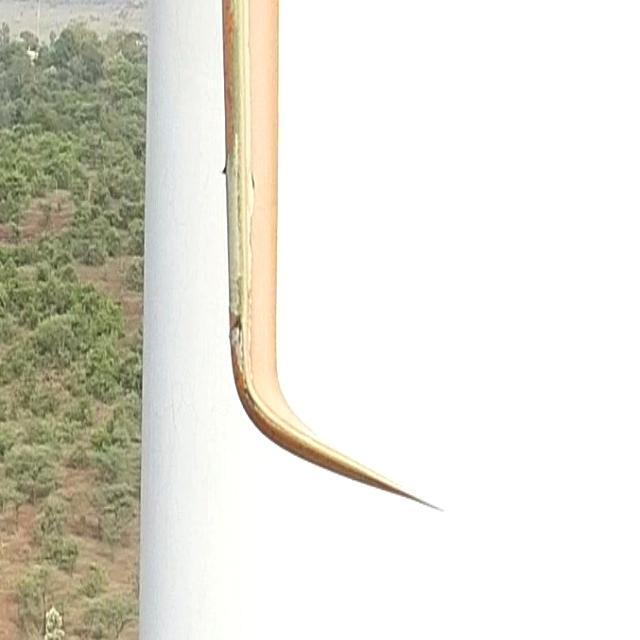EROSION: (227, 166, 263, 422)
